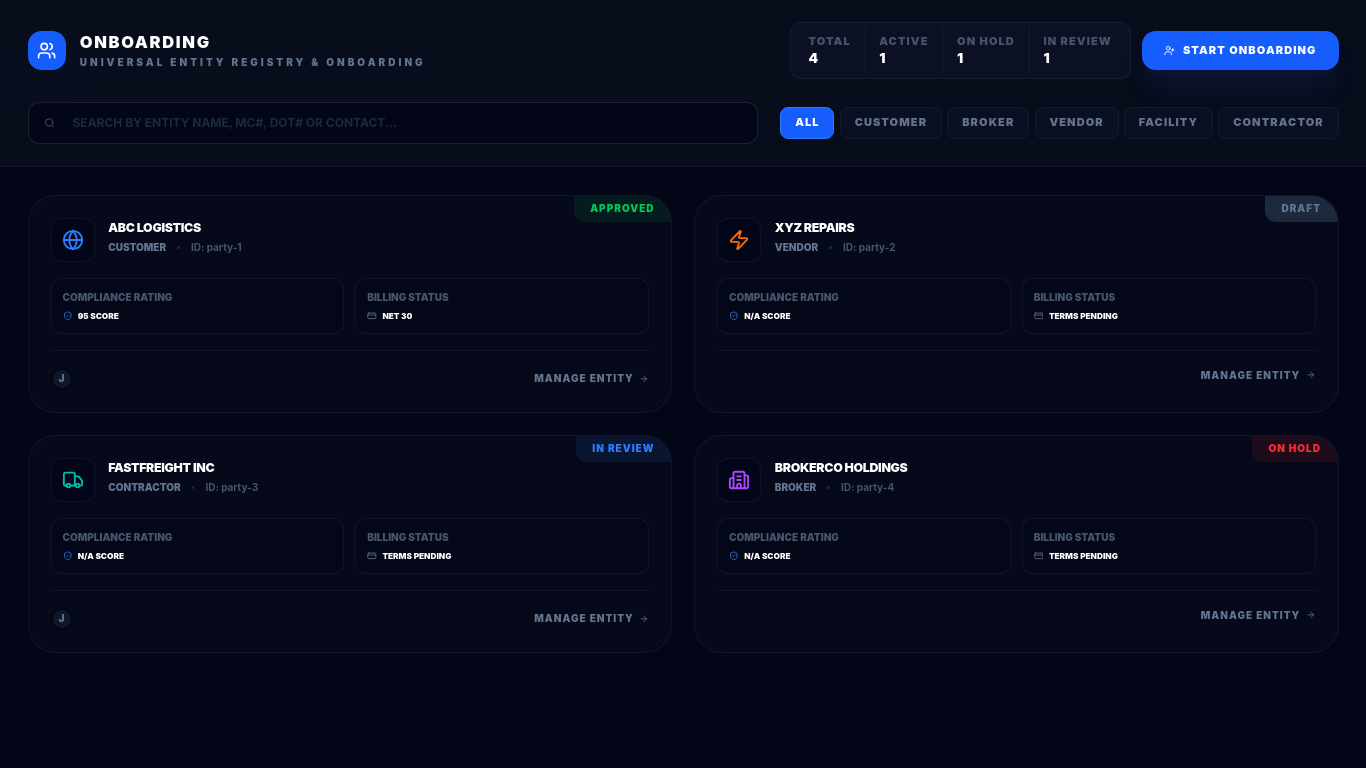
Test: NetworkPortal component › filters by Vendor type
Expected: the heading "XYZ Repairs" is shown, [775, 220, 854, 235]
Click the button "Vendor": click(1077, 123) [1035, 106, 1118, 139]
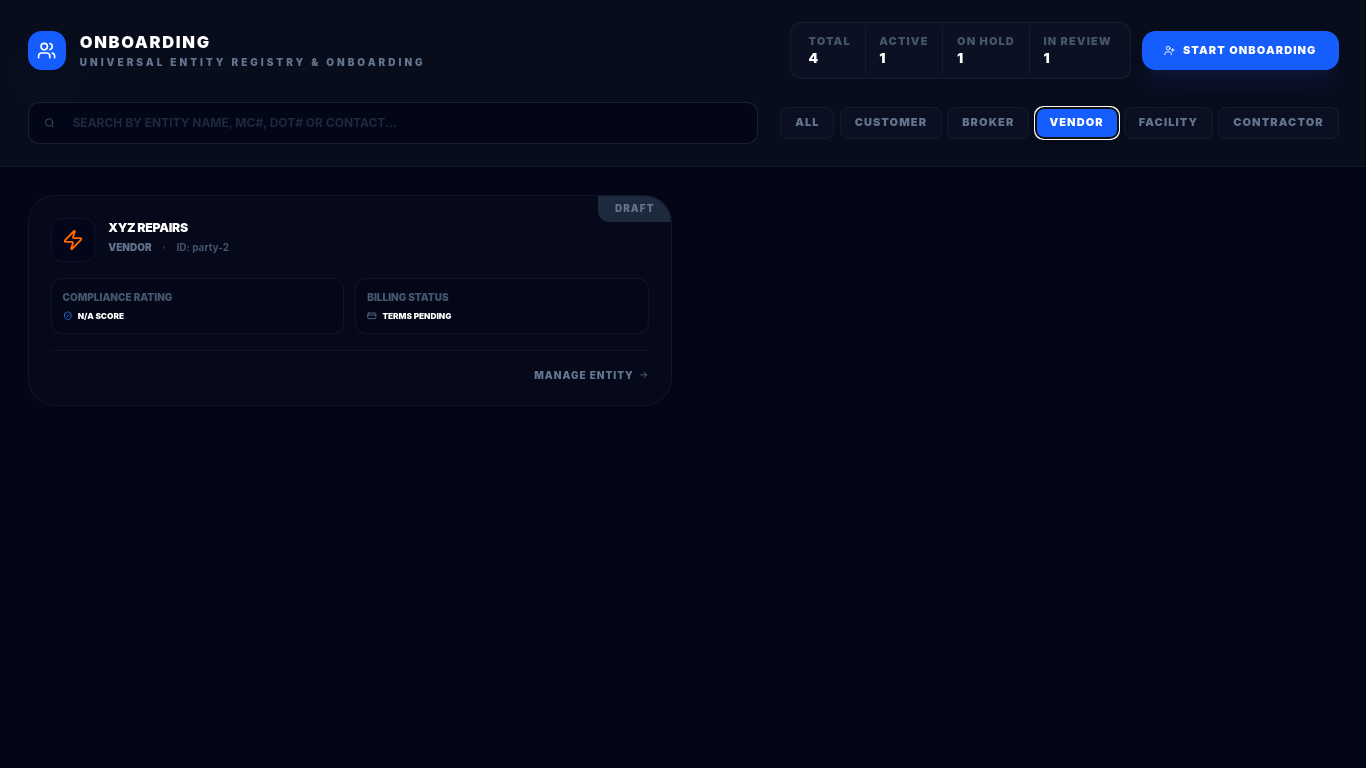
Expected: the heading "XYZ Repairs" is shown, [108, 220, 188, 235]
Expected: the heading "ABC Logistics" is gone
